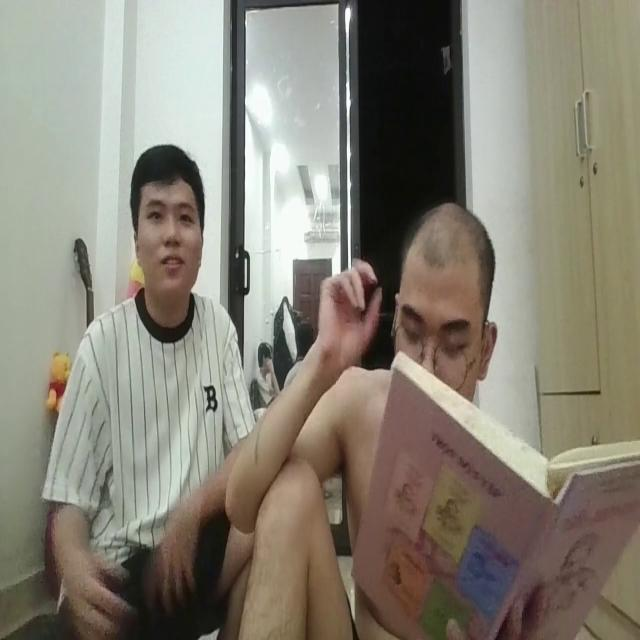book: (356, 329, 640, 640)
extra_person: (46, 133, 254, 640)
student: (241, 169, 545, 640)
